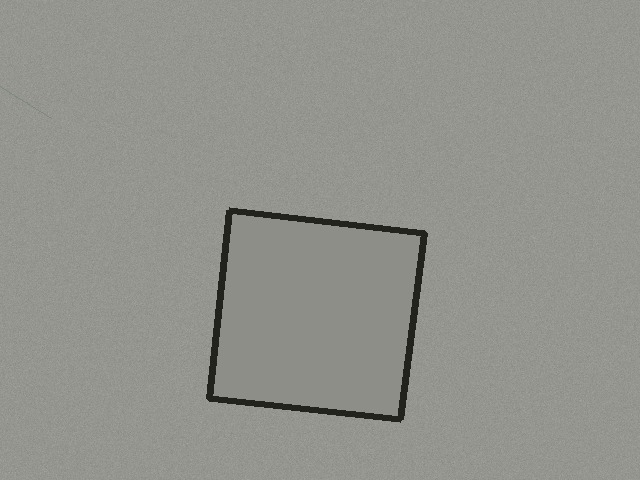parking_area: (209, 210, 424, 419)
